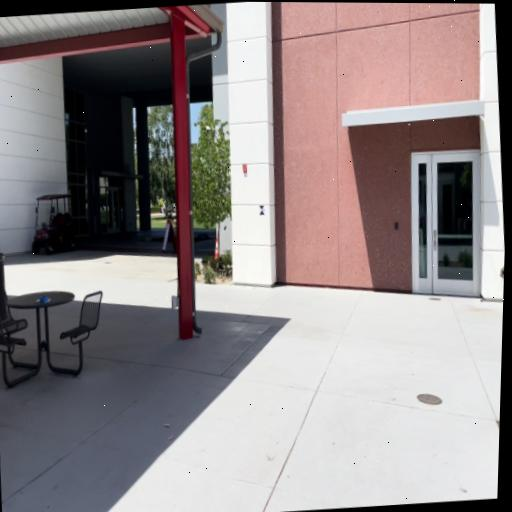target9: (259, 204, 265, 217)
